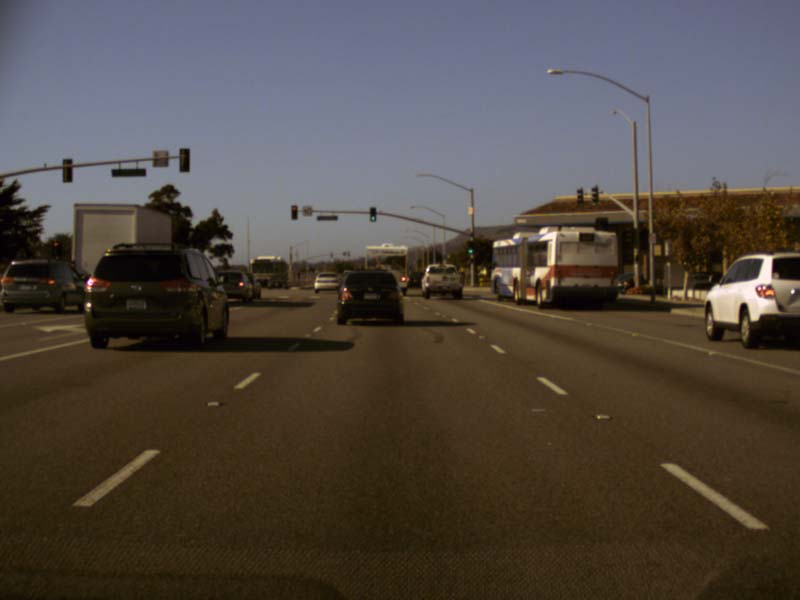Green: (369, 207, 375, 221), (466, 241, 473, 253)
Red: (51, 240, 61, 255), (290, 206, 297, 219)
